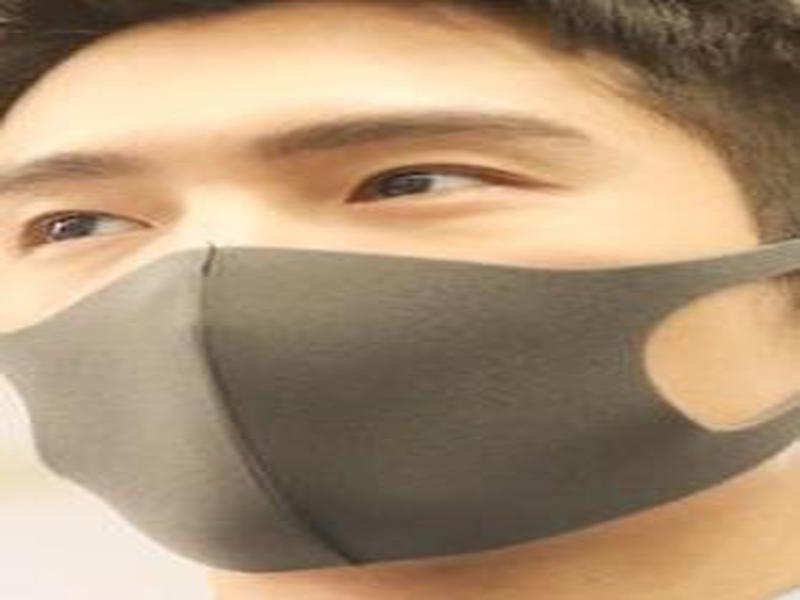with_mask: (1, 1, 796, 577)
